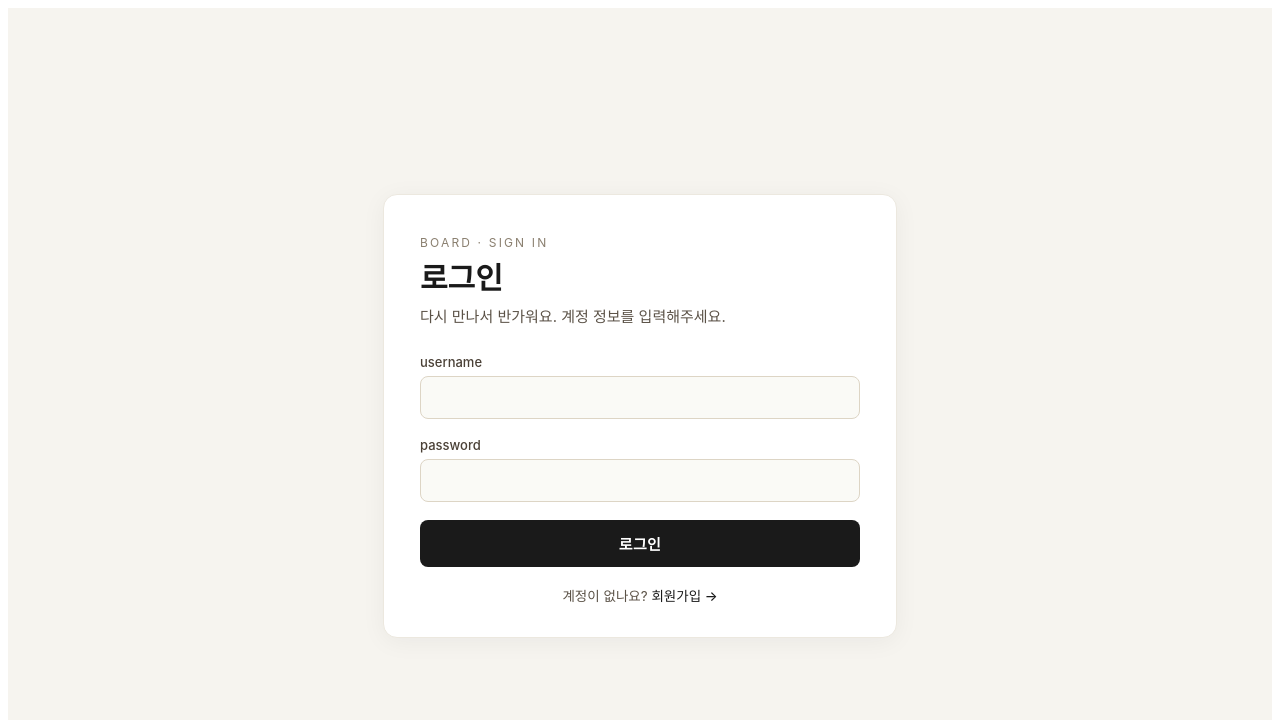
Test: LoginPage › 네트워크_실패_시_fallback_메시지를_렌더하고_재제출_가능하다
This screenshot has width=1280, height=720.
Type "marco" into the field labelled "username" at (640, 397), box [420,376,860,419]
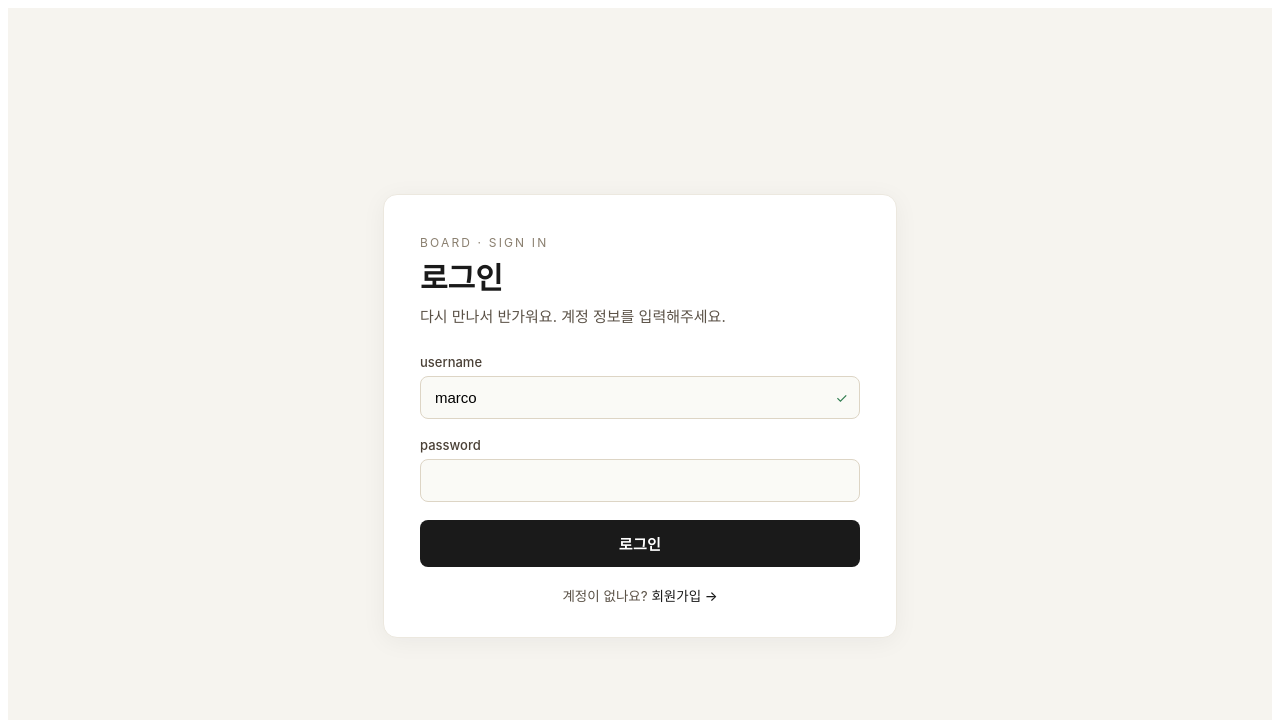
Type "pw12345" into the password field labelled "password" at (640, 480), box [420,459,860,502]
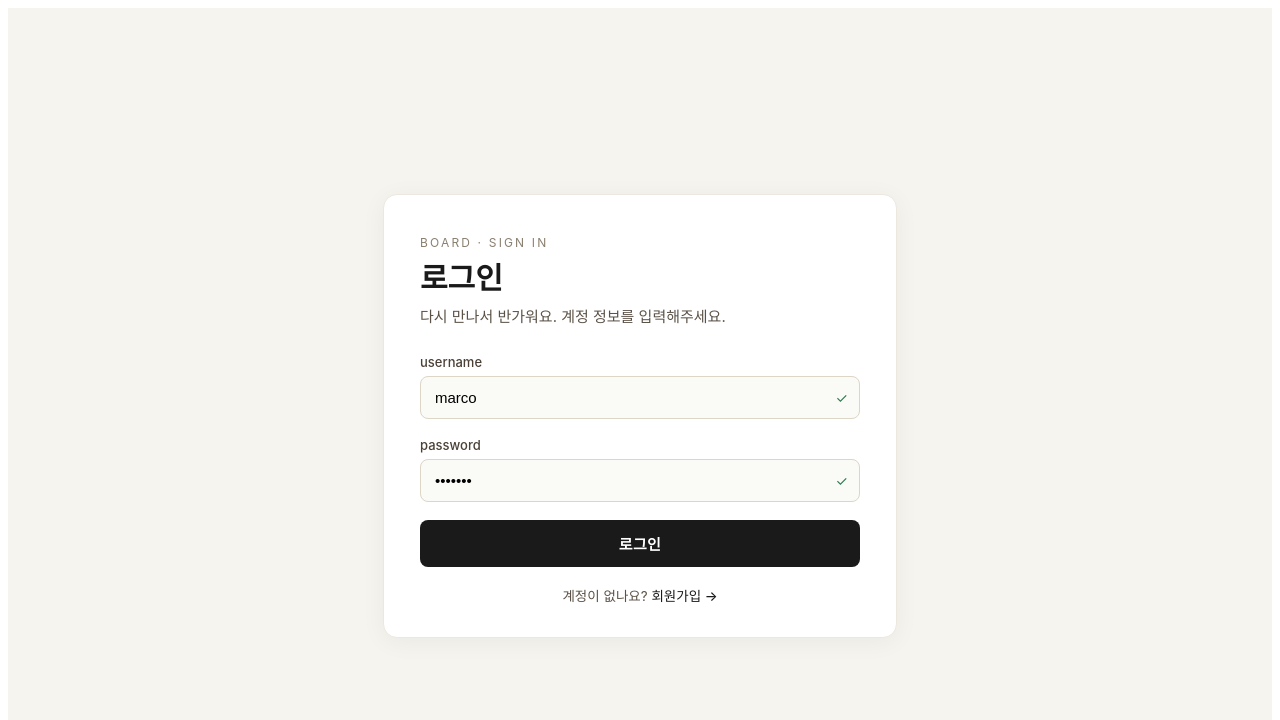
Click the button "로그인" at (640, 543), box [420,520,860,567]
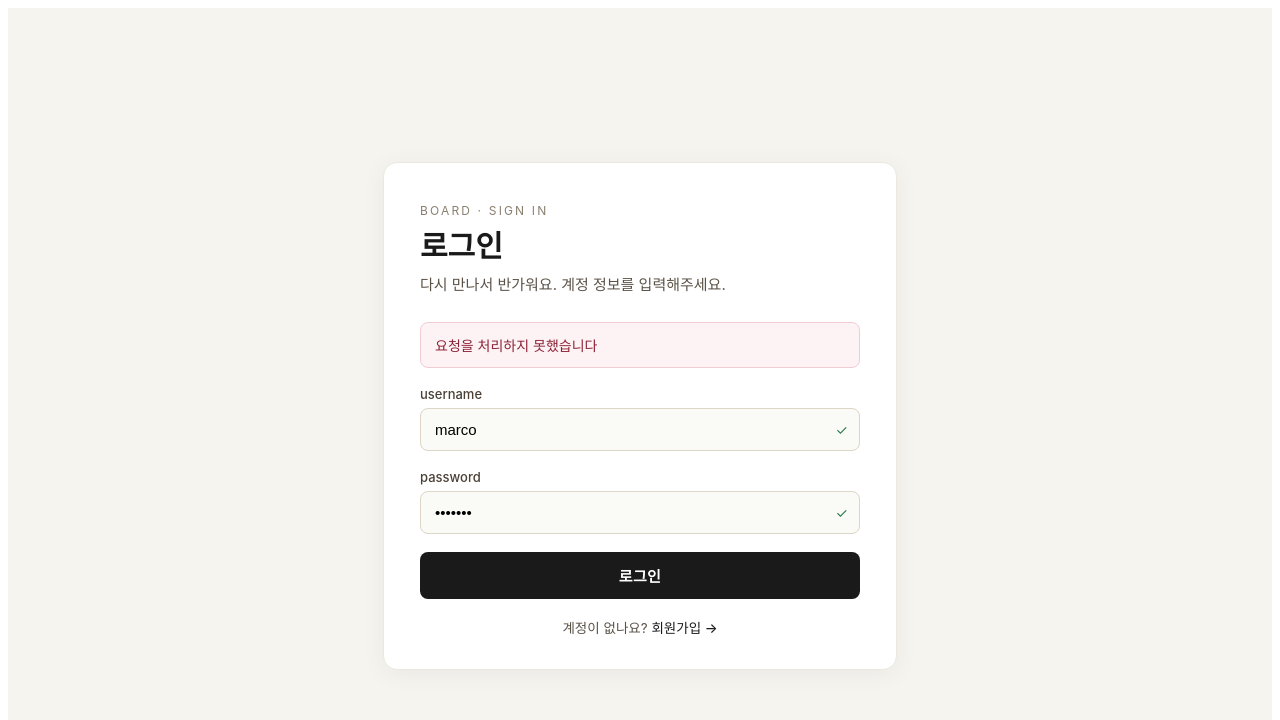
expect the button "로그인" is enabled: met, box [420,552,860,599]
expect the text "요청을 처리하지 못했습니다" is shown: met, box [420,322,860,368]
